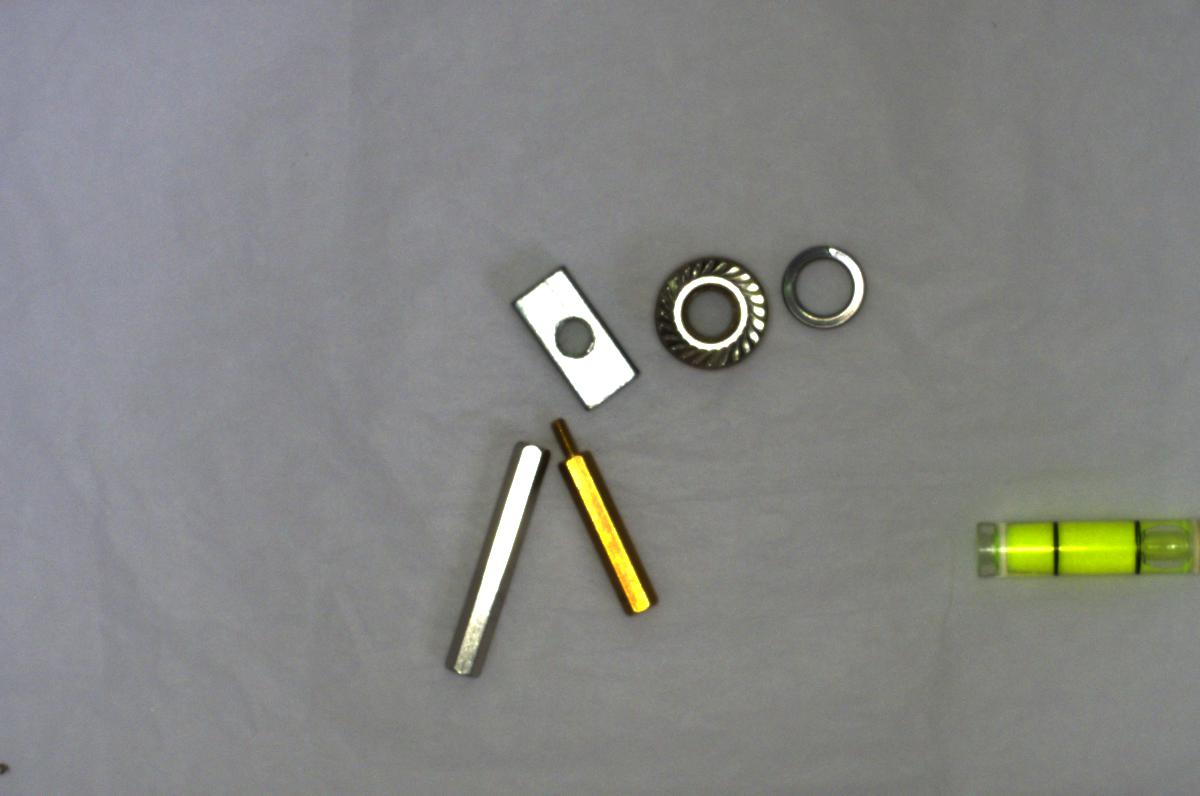Double hexagonal column: (447, 436, 547, 680)
Flange nut: (640, 253, 775, 380)
Hexagon pillar: (541, 415, 673, 628)
Horizontal bubble: (973, 506, 1197, 586)
Rectangular nut: (515, 265, 639, 413)
Spring washer: (772, 229, 879, 340)
